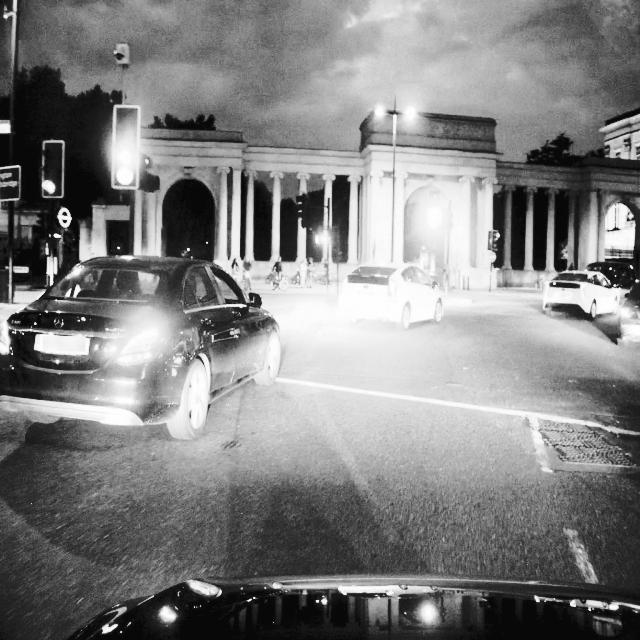Car: (1, 252, 285, 444), (336, 262, 447, 330)
Light: (112, 104, 141, 190), (42, 140, 66, 200), (140, 150, 160, 192), (427, 189, 443, 233)
